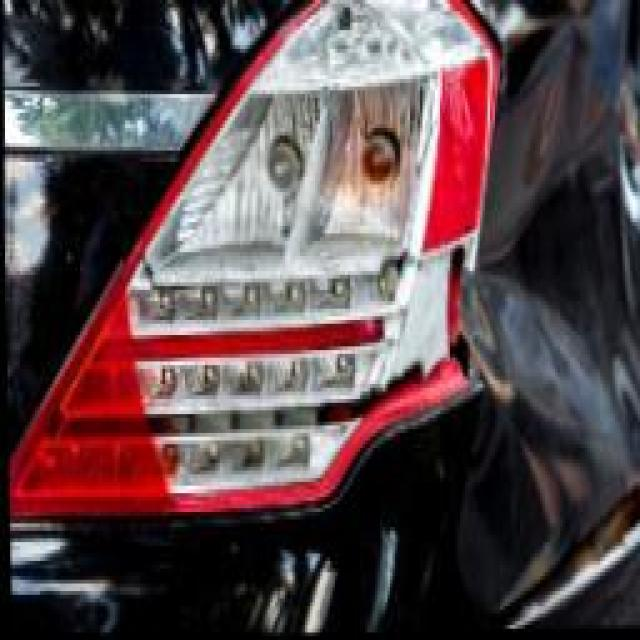Bumper: (8, 516, 632, 640)
Fender: (492, 34, 640, 508)
Light: (50, 0, 488, 511)
